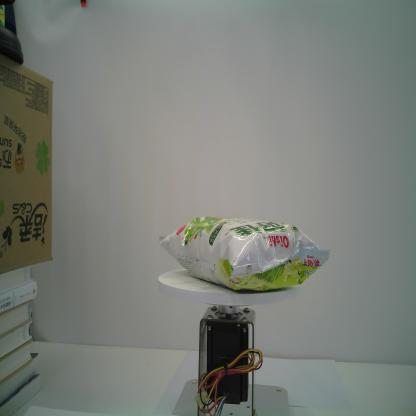Puffed Food: (158, 215, 331, 293)
